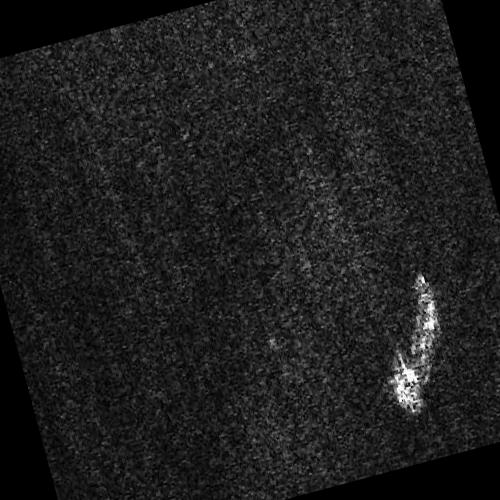ship: (395, 288, 437, 413)
